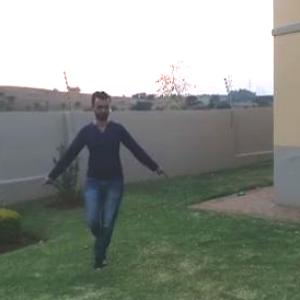land: (35, 88, 160, 282)
